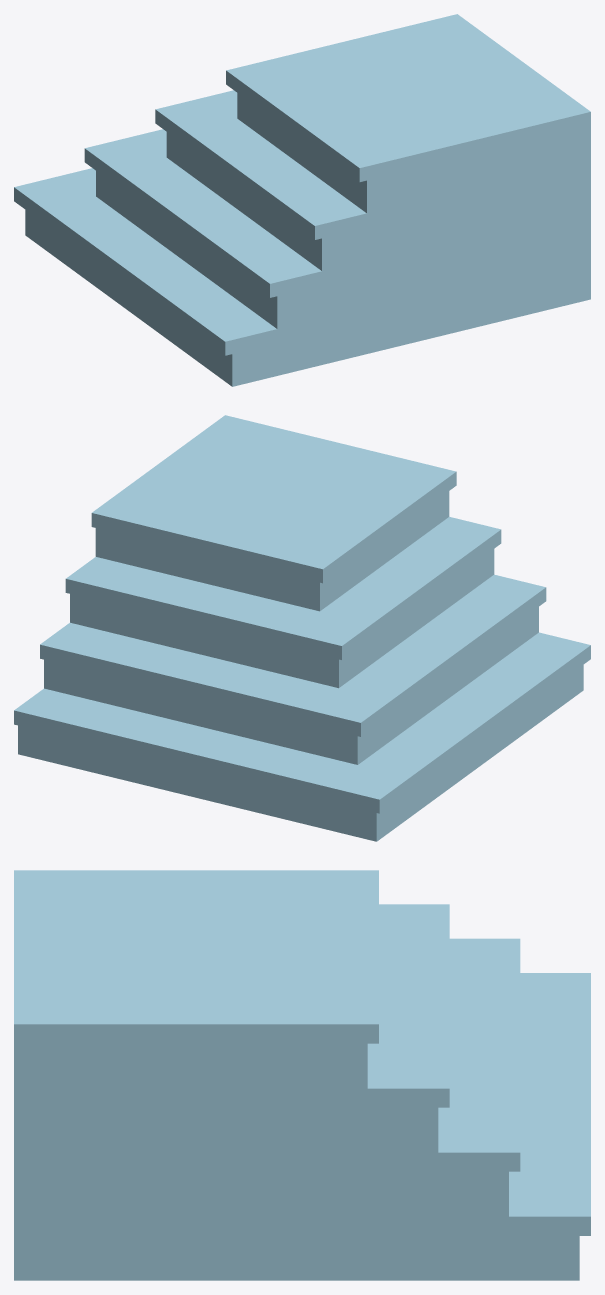
Rendered from stairsFullCornerOuter.fbx.
The picture shows the model from 3 angles, top to bottom: view 1: azimuth 30°, elevation 25°; view 2: azimuth 150°, elevation 25°; view 3: azimuth 270°, elevation 25°; orthographic projection. The views are drawn at different scales.
Parts seen in each view (by area): view 1: stairsFullCornerOuter; view 2: stairsFullCornerOuter; view 3: stairsFullCornerOuter.
Boxes of the visible parts, x1,y1,x2,y2 form: stairsFullCornerOuter: (14, 14, 590, 386); stairsFullCornerOuter: (14, 415, 590, 841); stairsFullCornerOuter: (14, 870, 590, 1280).
Size of the model in its own units: 10.2 by 5 by 10.2.
